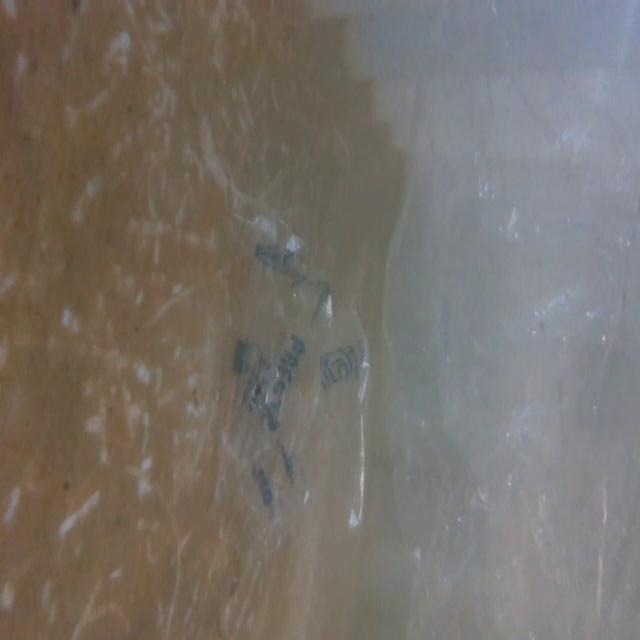plastic bags: (218, 217, 374, 549)
